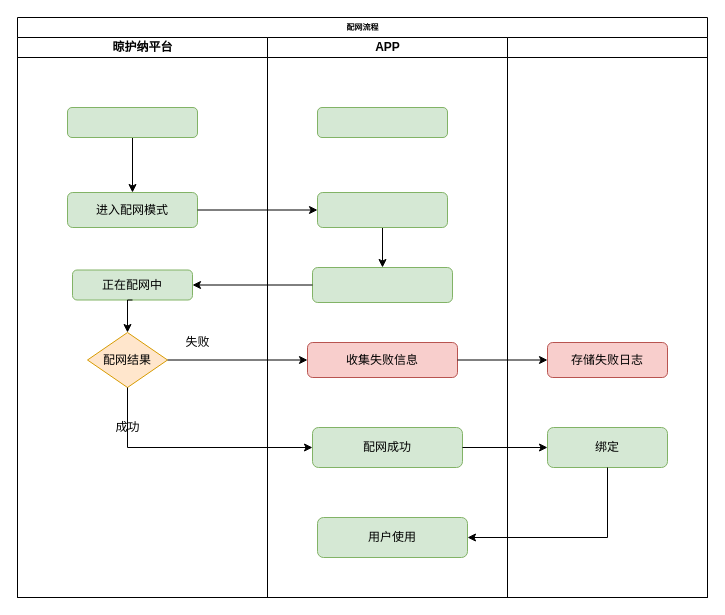
This 725x615 diagram has some shape labels left out. The shapes that lost their labels are listed below. From the top down, each one's box as (x1, y1, x2, y2) in pixels, then its label:
(66, 106, 198, 138): 同时按压遥控上下键
(316, 106, 448, 138): 打开蓝牙
(316, 192, 448, 228): 发现设备
(312, 266, 452, 302): 输入WiF和密码i
(506, 36, 708, 598): 自有云平台
